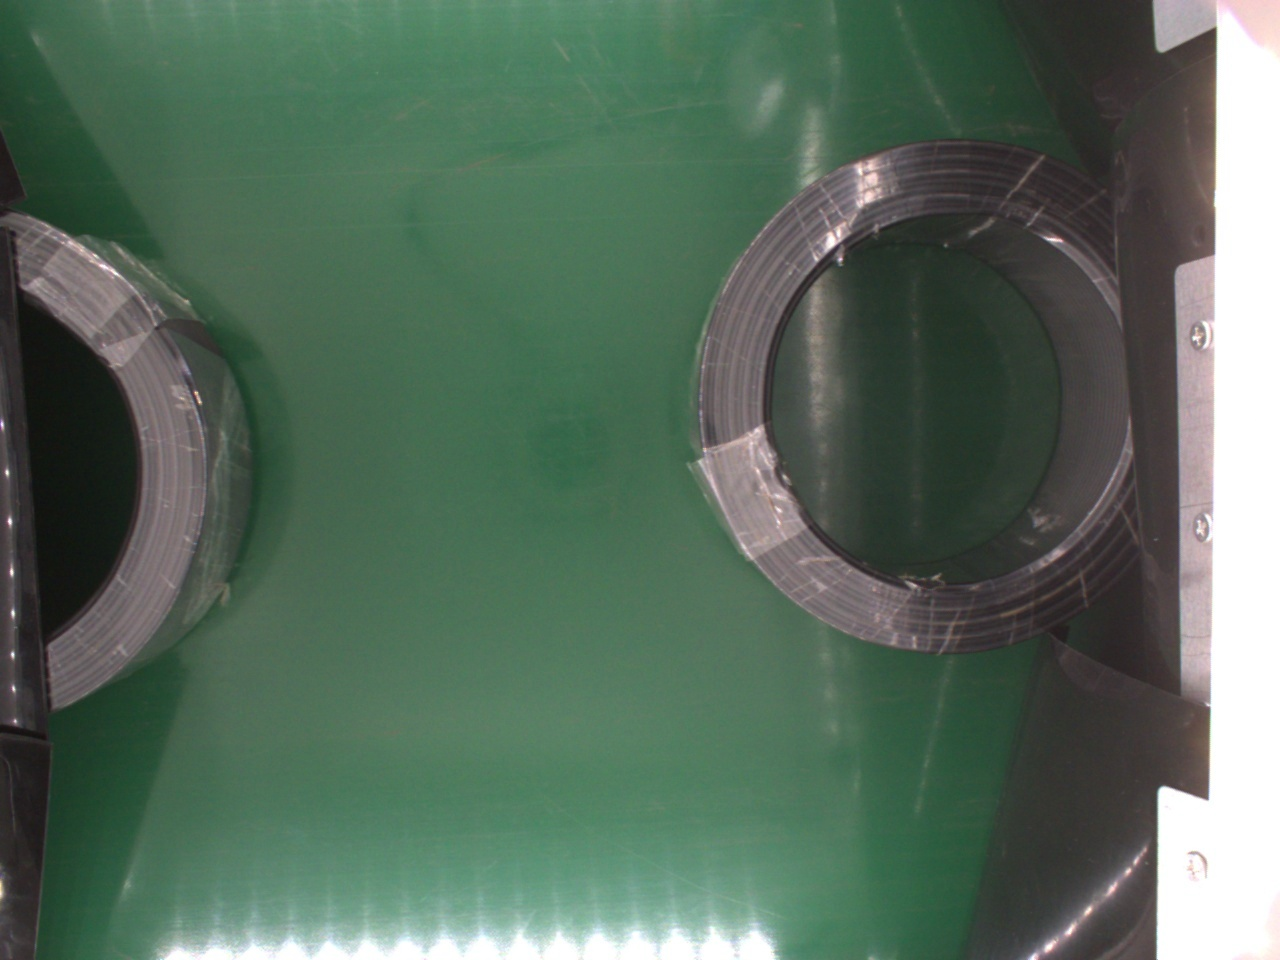black: (690, 136, 1130, 651), (7, 209, 249, 709)
